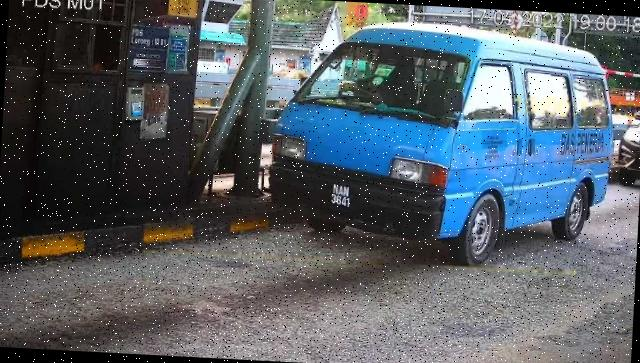License_Plate: (325, 180, 360, 215)
van: (266, 15, 620, 274)
